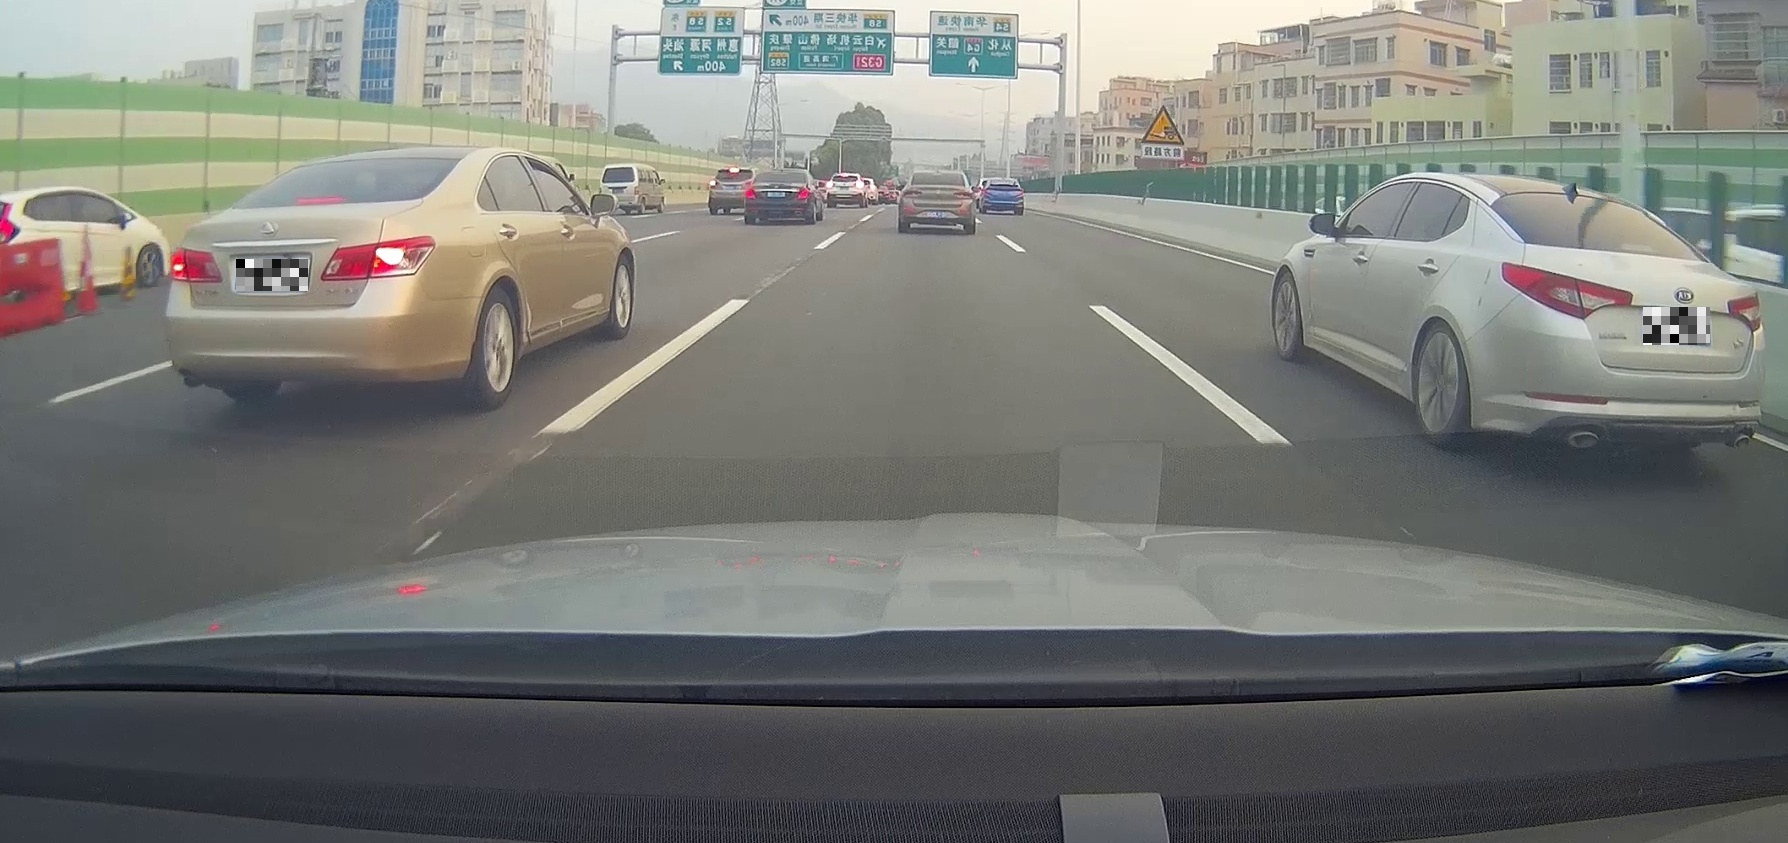L_light: (1500, 262, 1634, 321), (166, 244, 223, 282), (743, 186, 757, 200), (903, 189, 923, 198), (982, 188, 992, 197), (826, 181, 835, 188)
R_light: (320, 234, 436, 281), (1728, 291, 1761, 333), (795, 188, 811, 200), (954, 191, 973, 198), (1013, 188, 1023, 196), (854, 183, 865, 188)
T_light: (295, 197, 346, 204), (1588, 196, 1614, 203), (777, 170, 788, 173), (934, 172, 944, 175), (999, 179, 1007, 181), (842, 175, 847, 177)
day-brake: (163, 148, 482, 413), (826, 173, 865, 208)
day-no: (1472, 173, 1763, 451), (899, 170, 974, 235), (743, 168, 813, 226), (980, 178, 1024, 214)
plate_1: (236, 259, 308, 291)
plate_2: (1643, 307, 1710, 345)
